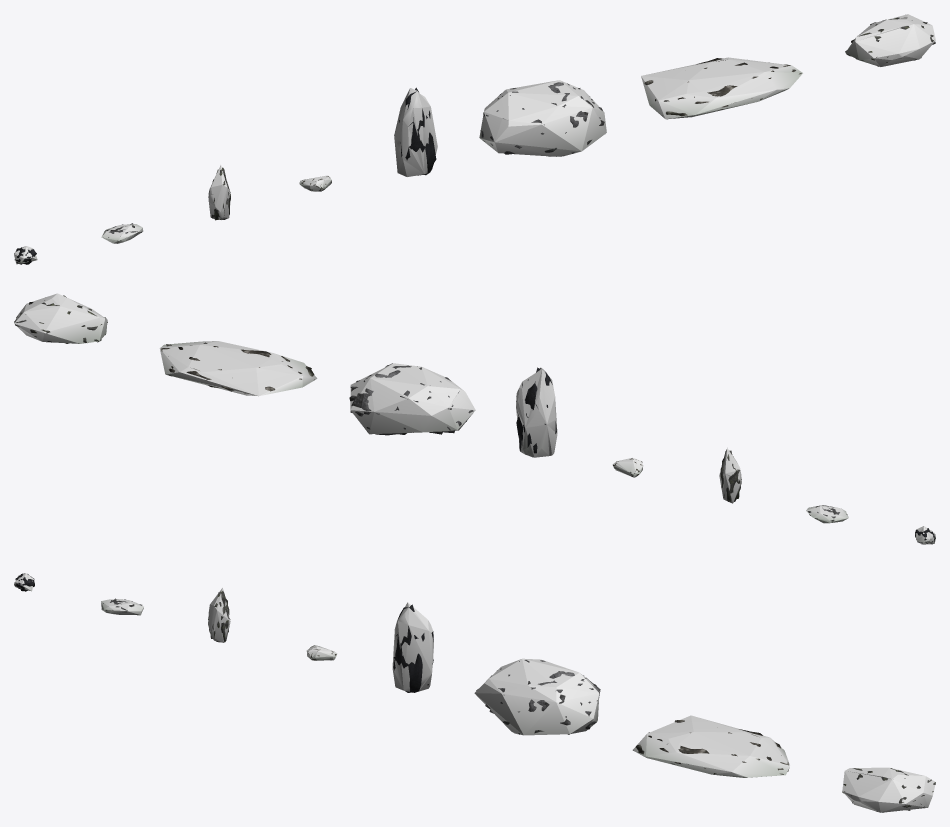
Rendered from shore_rock_kit_v2.glb.
3 views of the same model, one above another, from view 1: azimuth 30°, elevation 25°; view 2: azimuth 150°, elevation 25°; view 3: azimuth 330°, elevation 25° (orthographic).
Visible parts, largest first — view 1: col_shore_rock_f_headland, col_shore_rock_g_shelf, col_shore_rock_h_skerry, col_shore_rock_e_seastack, col_shore_rock_c_stack, shore_rock_e_seastack, shore_rock_f_headland, col_shore_rock_b_slab, shore_rock_g_shelf; view 2: col_shore_rock_f_headland, col_shore_rock_g_shelf, col_shore_rock_h_skerry, col_shore_rock_e_seastack, shore_rock_f_headland, col_shore_rock_c_stack, shore_rock_e_seastack, col_shore_rock_b_slab, shore_rock_g_shelf; view 3: col_shore_rock_f_headland, col_shore_rock_g_shelf, col_shore_rock_h_skerry, col_shore_rock_e_seastack, shore_rock_e_seastack, shore_rock_f_headland, col_shore_rock_c_stack, col_shore_rock_b_slab, shore_rock_g_shelf.
Part boxes in pixels (box(x1,y1,x2,y2)): col_shore_rock_f_headland: box(479, 80, 606, 156); col_shore_rock_g_shelf: box(641, 57, 802, 119); col_shore_rock_h_skerry: box(845, 14, 935, 66); col_shore_rock_e_seastack: box(394, 88, 437, 176); col_shore_rock_c_stack: box(208, 165, 230, 219); shore_rock_e_seastack: box(399, 87, 436, 175); shore_rock_f_headland: box(480, 82, 604, 156); col_shore_rock_b_slab: box(101, 224, 143, 243); shore_rock_g_shelf: box(644, 58, 801, 119); col_shore_rock_f_headland: box(350, 363, 475, 434); col_shore_rock_g_shelf: box(159, 341, 317, 396); col_shore_rock_h_skerry: box(14, 293, 107, 343); col_shore_rock_e_seastack: box(516, 368, 557, 457); shore_rock_f_headland: box(349, 363, 473, 435); col_shore_rock_c_stack: box(719, 448, 741, 503); shore_rock_e_seastack: box(516, 367, 556, 457); col_shore_rock_b_slab: box(806, 505, 848, 523); shore_rock_g_shelf: box(161, 342, 314, 393); col_shore_rock_f_headland: box(474, 658, 599, 735); col_shore_rock_g_shelf: box(632, 715, 789, 777); col_shore_rock_h_skerry: box(842, 767, 935, 812); col_shore_rock_e_seastack: box(392, 602, 433, 691); shore_rock_e_seastack: box(393, 604, 433, 692); shore_rock_f_headland: box(476, 660, 600, 734); col_shore_rock_c_stack: box(208, 587, 230, 642); col_shore_rock_b_slab: box(101, 599, 143, 615); shore_rock_g_shelf: box(633, 720, 789, 774).
Bounding box in the file's own units: 84.61 × 7.6 × 8.71.
1 material, 1 textured.
